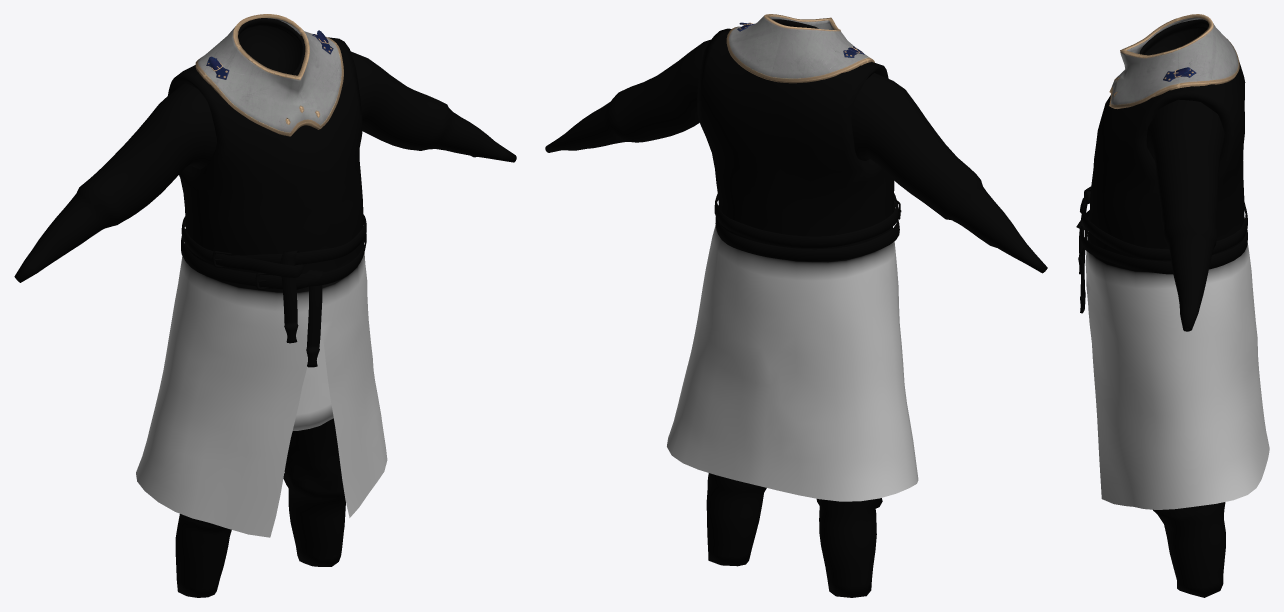
File: swan_knight_armor_tabard1_t2_slim.fbx
3 views of the same model, side by side, from view 1: azimuth 30°, elevation 25°; view 2: azimuth 150°, elevation 25°; view 3: azimuth 270°, elevation 25° (orthographic). The views are drawn at different scales.
Visible parts, largest first — view 1: swan_knight_armor_tabard1_t2_slim.0, swan_knight_armor_tabard1_t2_slim.1; view 2: swan_knight_armor_tabard1_t2_slim.0, swan_knight_armor_tabard1_t2_slim.1; view 3: swan_knight_armor_tabard1_t2_slim.0, swan_knight_armor_tabard1_t2_slim.1.
Boxes of the visible parts, x1,y1,x2,y2 form: swan_knight_armor_tabard1_t2_slim.0: [14, 18, 516, 597]; swan_knight_armor_tabard1_t2_slim.1: [195, 14, 343, 136]; swan_knight_armor_tabard1_t2_slim.0: [545, 19, 1047, 597]; swan_knight_armor_tabard1_t2_slim.1: [726, 14, 874, 83]; swan_knight_armor_tabard1_t2_slim.0: [1076, 19, 1269, 597]; swan_knight_armor_tabard1_t2_slim.1: [1109, 14, 1239, 108].
Bounding box in the file's own units: 1.3 × 0.4478 × 1.38.
